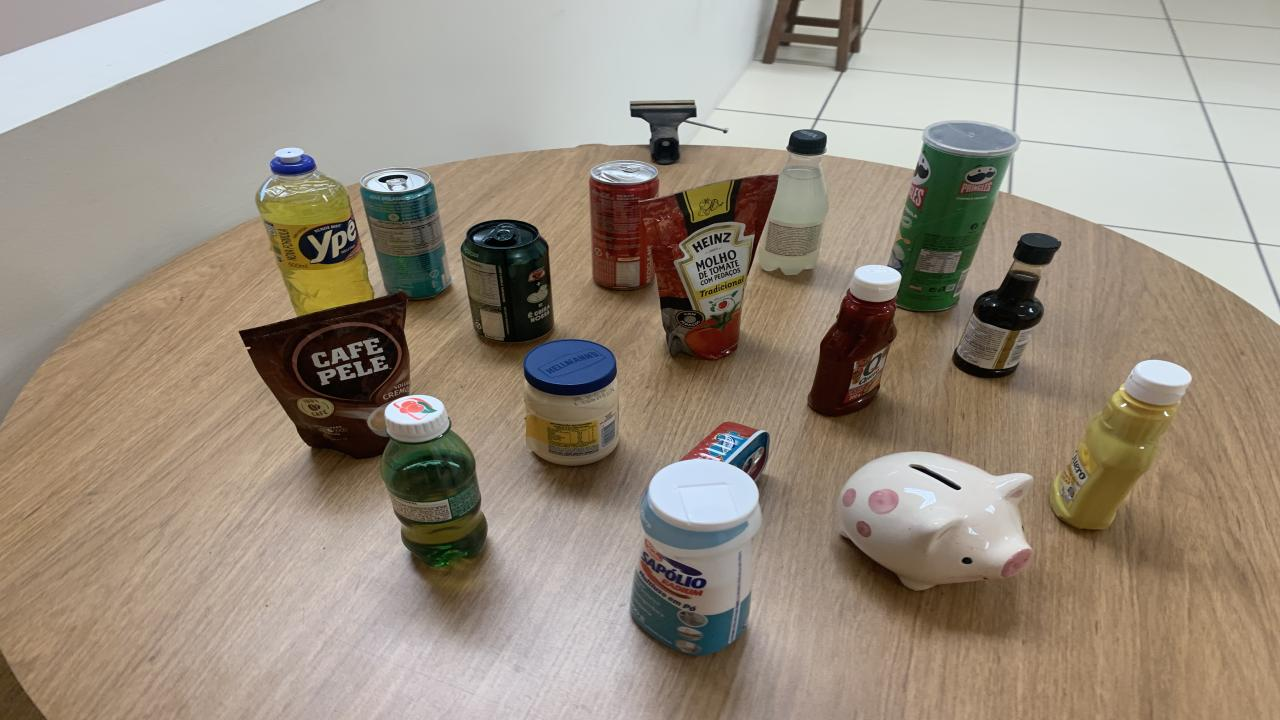Cleaner-Cleanup_Items: (630, 459, 762, 656)
Coffee-Pantry_Items: (240, 292, 410, 458)
Coke-Drinks: (590, 159, 658, 289)
Detergent-Cleanup_Items: (255, 146, 375, 315)
English_Sauce-Pantry_Items: (952, 232, 1060, 377)
Guarana-Drinks: (380, 394, 488, 566)
Guarana_Can-Drinks: (460, 219, 555, 343)
Ketchup-Pantry_Items: (808, 264, 900, 416)
Mayonnaise-Pantry_Items: (522, 339, 620, 465)
Mustard-Pantry_Items: (1050, 360, 1192, 529)
Pig_Safe-Miscellaneous: (838, 452, 1032, 591)
Pringles-Snacks: (888, 122, 1020, 311)
Soda-Drinks: (760, 129, 828, 276)
Tea-Drinks: (360, 167, 452, 298)
Tomato_Sauce-Pantry_Items: (640, 174, 778, 360)
Tuna_Can-Pantry_Items: (680, 422, 770, 480)
